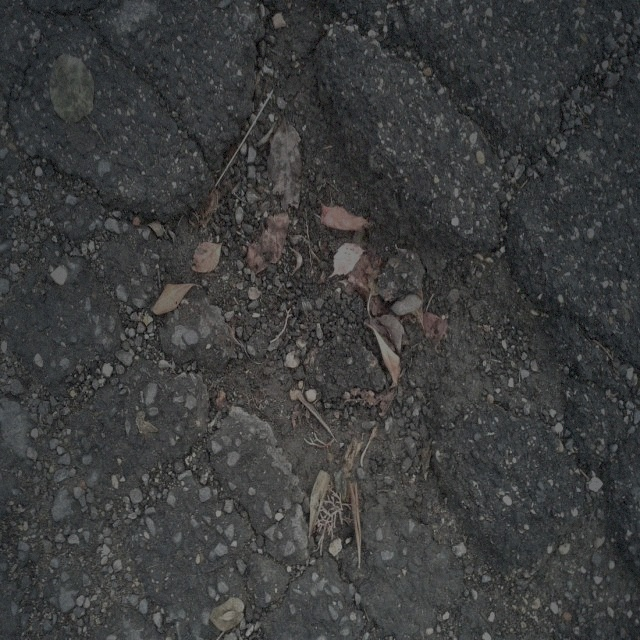pothole: (184, 55, 491, 523)
